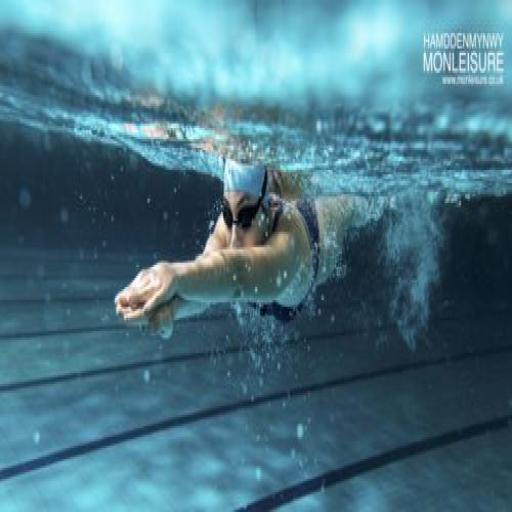swimming: (112, 152, 448, 353)
